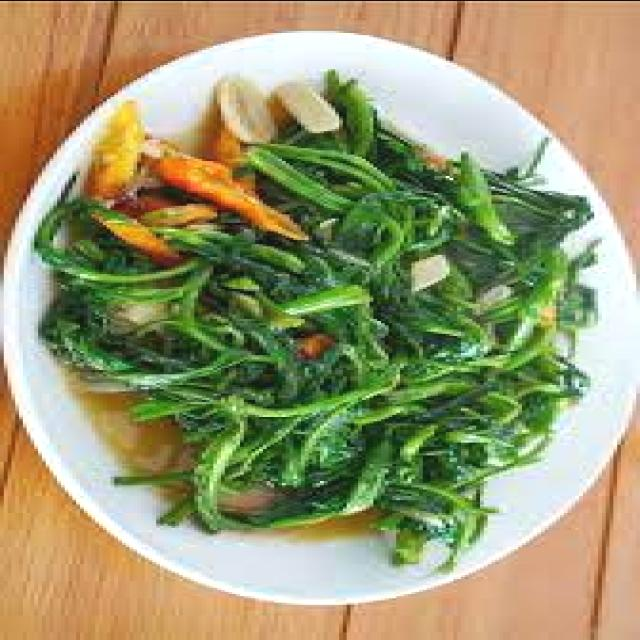tumis kangkung: (27, 64, 602, 574)
